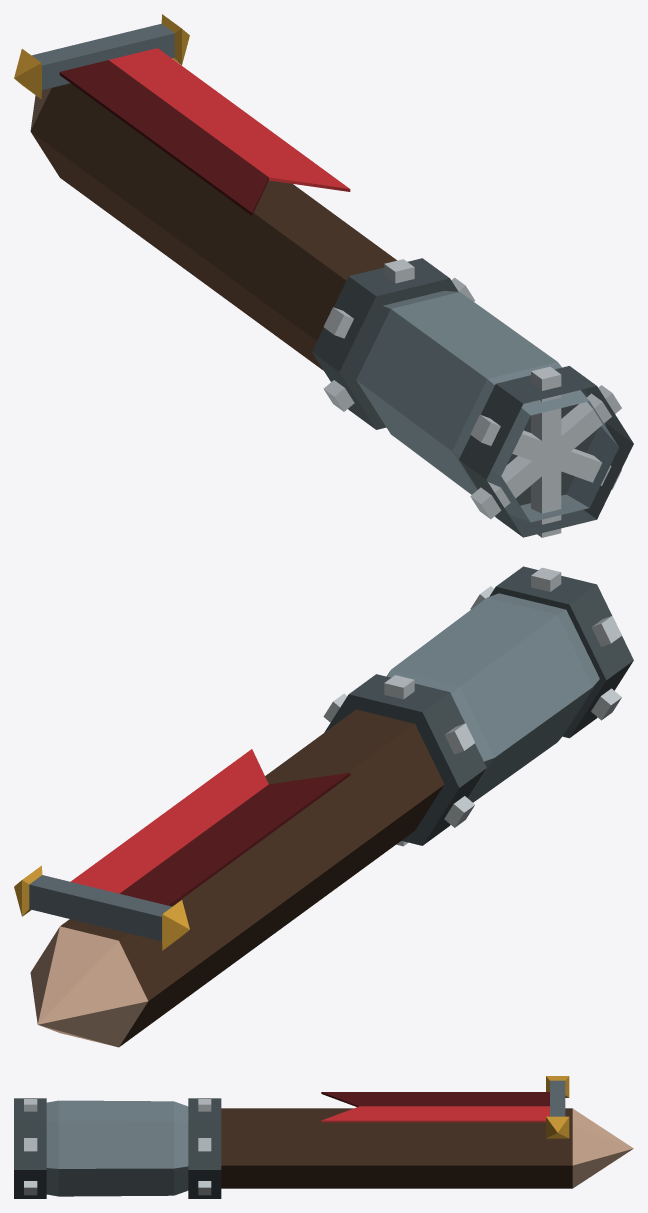
File: Arena Pillar 01.FBX
3 renders of one model, top to bottom at view 1: azimuth 30°, elevation 25°; view 2: azimuth 150°, elevation 25°; view 3: azimuth 270°, elevation 25°, orthographic. The views are drawn at different scales.
Visible parts, largest first — view 1: Arena Pillar 01; view 2: Arena Pillar 01; view 3: Arena Pillar 01.
Part boxes in pixels (<box>): Arena Pillar 01: <box>14,14,633,537</box>; Arena Pillar 01: <box>14,566,633,1047</box>; Arena Pillar 01: <box>14,1076,633,1198</box>.
Bounding box in the file's own units: 87.84 × 80.12 × 452.
